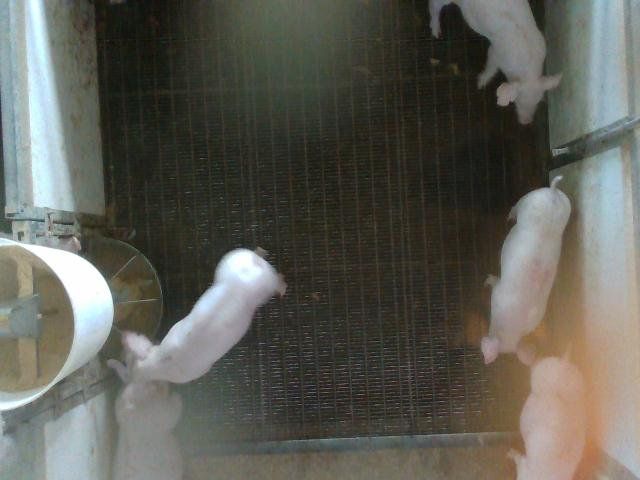pig-4: (481, 176, 571, 364)
